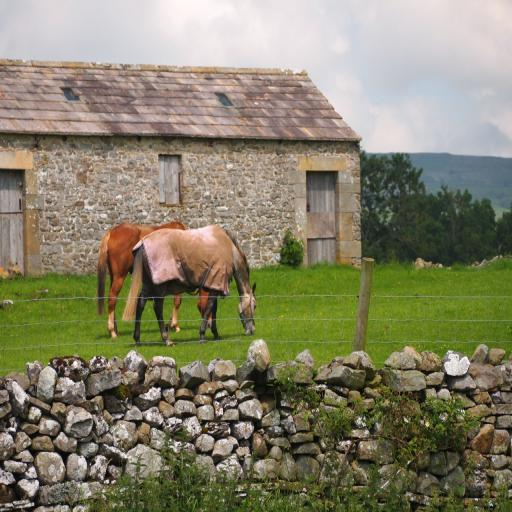horse: (119, 224, 259, 346), (95, 217, 213, 336)
